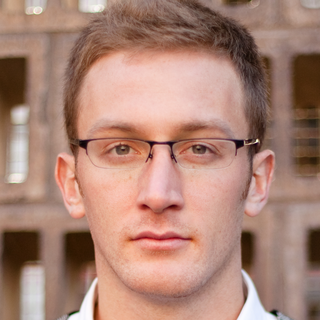eye: (100, 140, 145, 163), (175, 142, 223, 163)
